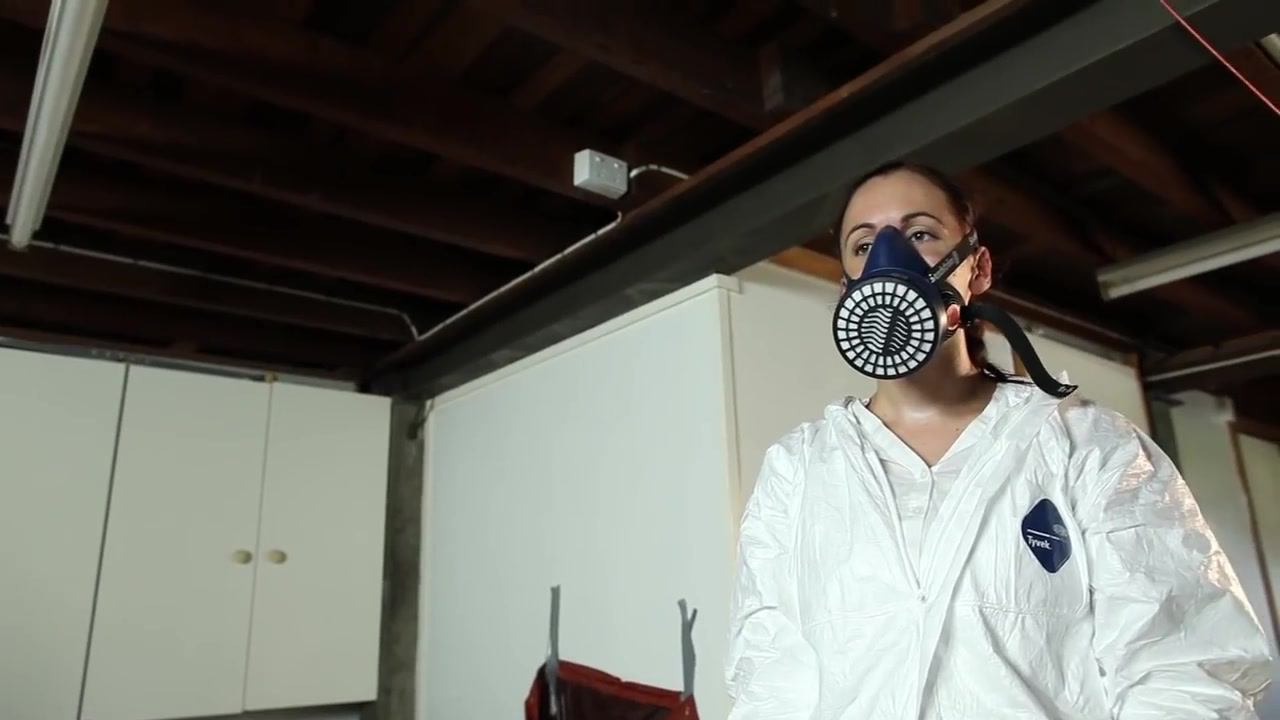Coverall: (716, 377, 1280, 717)
with_mask: (809, 240, 963, 381)
